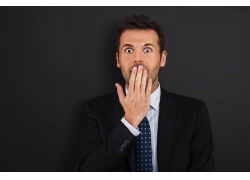face: (120, 30, 160, 82)
